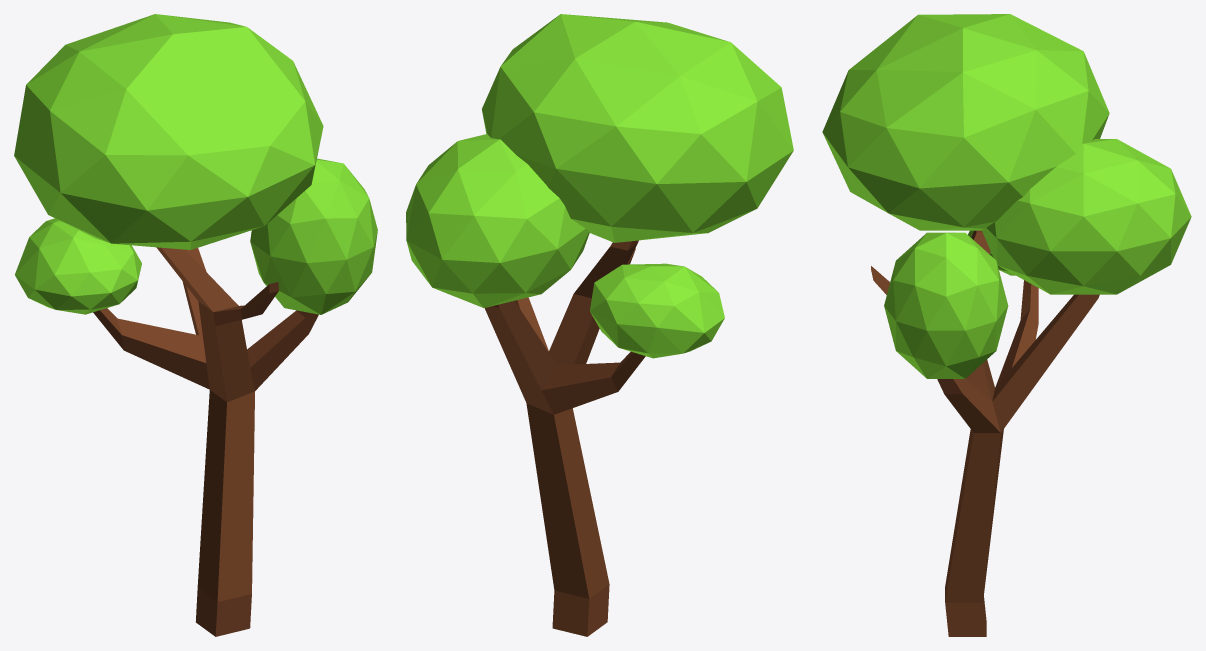
Rendered from T_tree3.fbx.
3 views of the same model, side by side, from view 1: azimuth 30°, elevation 25°; view 2: azimuth 150°, elevation 25°; view 3: azimuth 270°, elevation 25° (orthographic). The views are drawn at different scales.
Visible parts, largest first — view 1: Icosphere.002; view 2: Icosphere.002; view 3: Icosphere.002.
Boxes of the visible parts, box(x1,y1,x2,y2) form: Icosphere.002: box(14, 14, 377, 636); Icosphere.002: box(406, 14, 793, 636); Icosphere.002: box(822, 14, 1191, 636).
Size of the model in its own units: 359 by 649 by 376.
